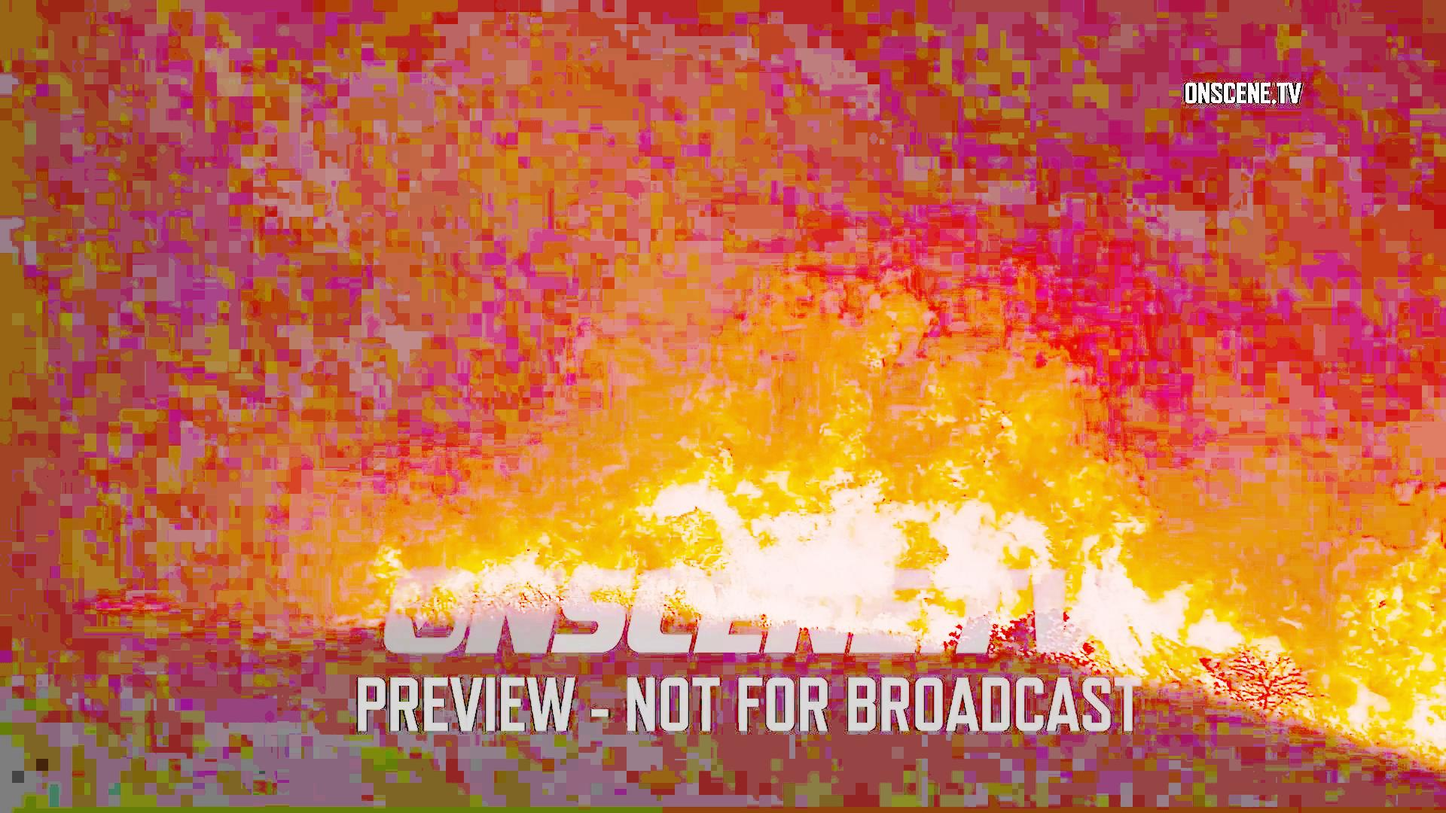fire: (680, 431, 1117, 645), (1326, 537, 1446, 744)
